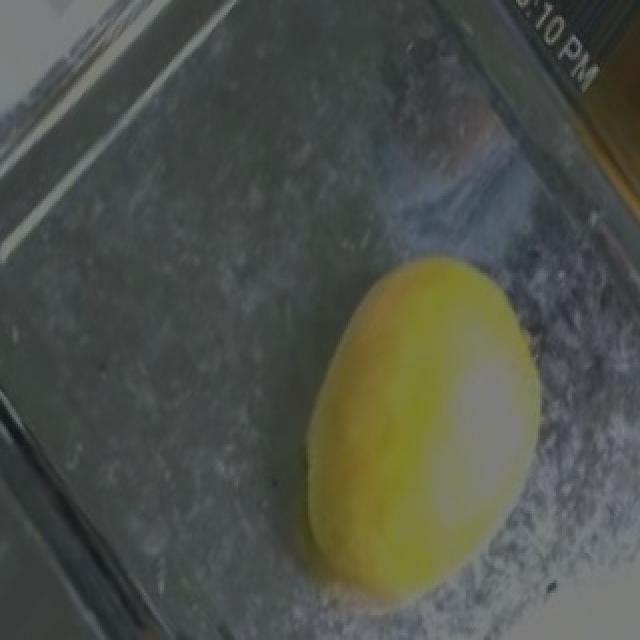fruit: (256, 206, 608, 585)
